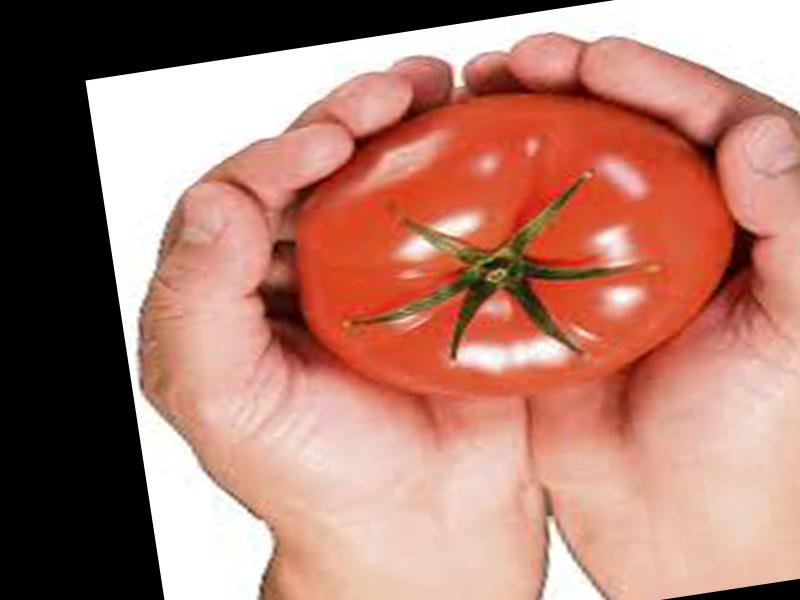Tomato: (271, 65, 755, 422)
